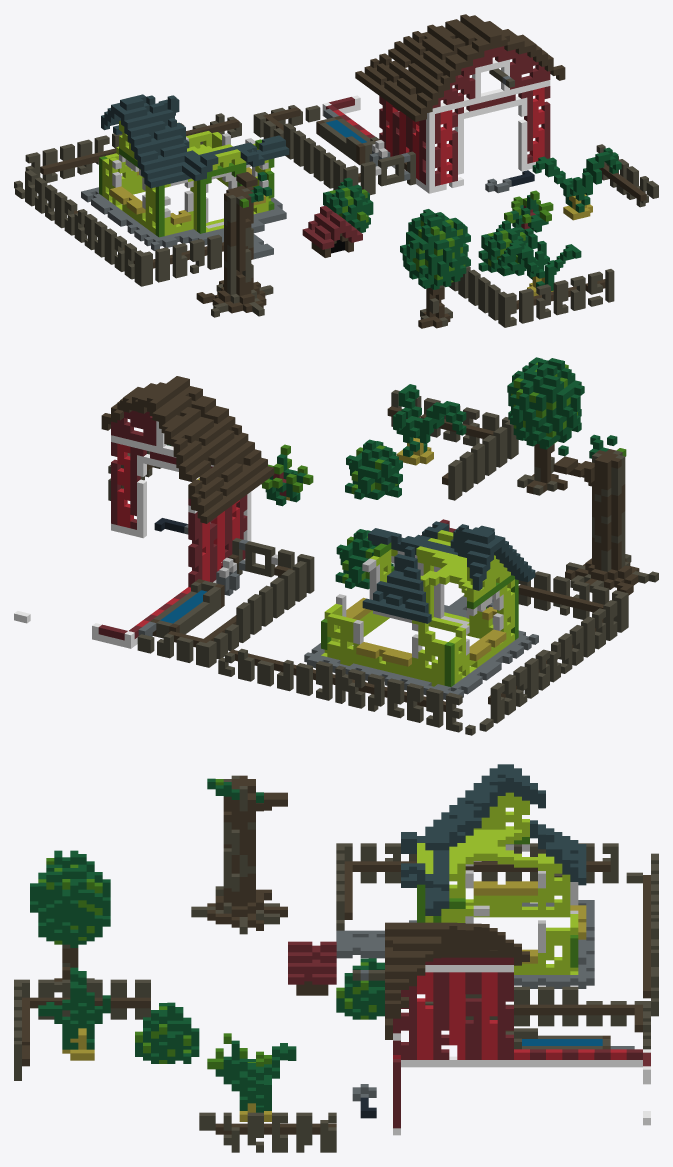
File: farm_1_destroyed.obj
3 renders of one model, top to bottom at view 1: azimuth 30°, elevation 25°; view 2: azimuth 150°, elevation 25°; view 3: azimuth 270°, elevation 25°, orthographic. The views are drawn at different scales.
Size of the model in its own units: 8 by 2.4 by 8.
Materials: 1 (1 with a texture image).
